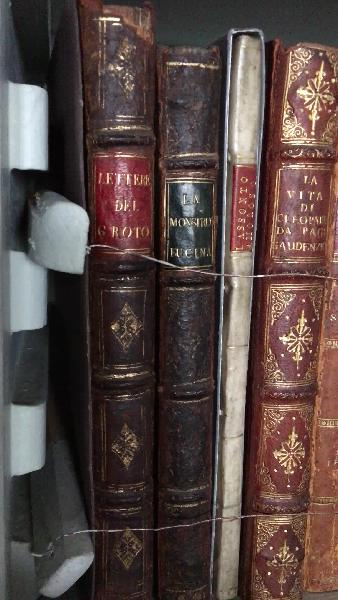Aa6-1: (78, 6, 155, 600)
Aa6-2: (159, 38, 219, 599)
Aa6-3: (226, 28, 244, 599)
Aa6-4: (254, 39, 338, 597)
